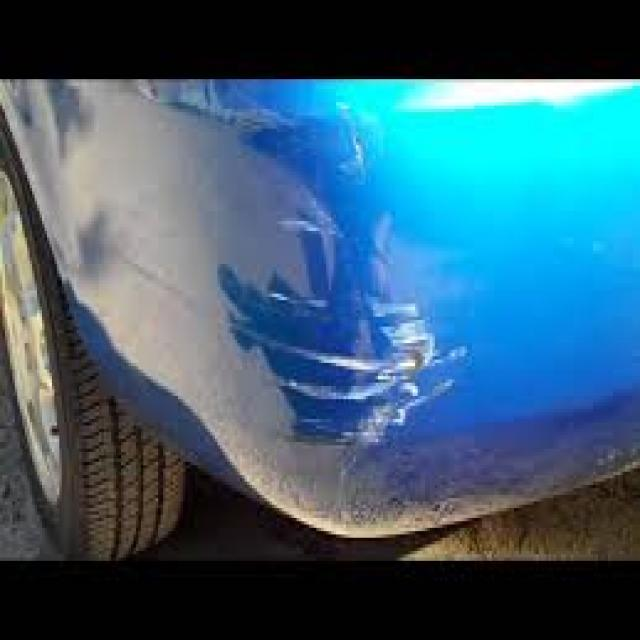minor: (182, 60, 486, 601)
